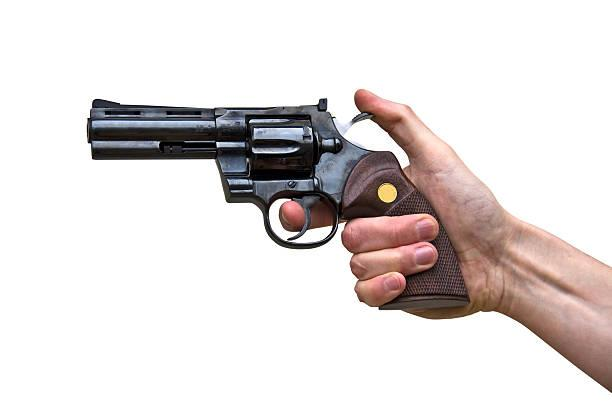weapon: (84, 94, 471, 311)
